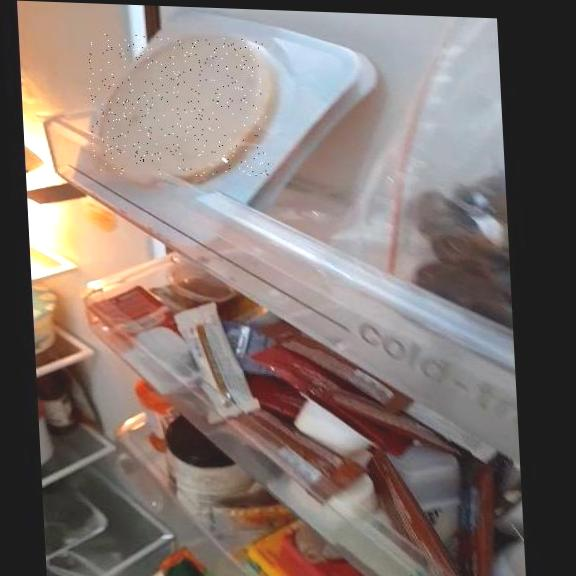salami: (87, 33, 270, 180)
